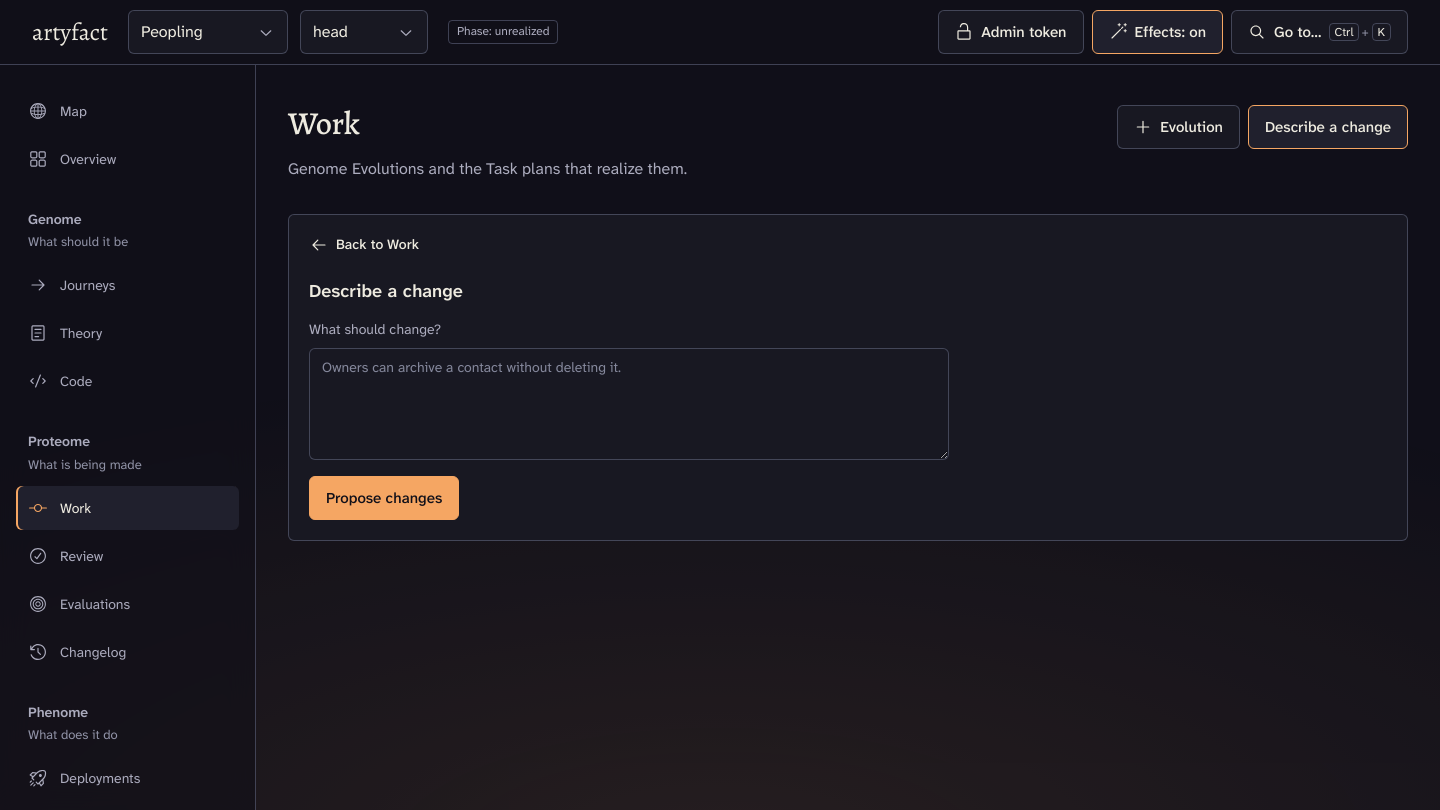
Test: Describe a change › says intents are not available yet on a 501
In the text box labelled "What should change?": (629, 404) [309,348,949,460], type "Birthdays"
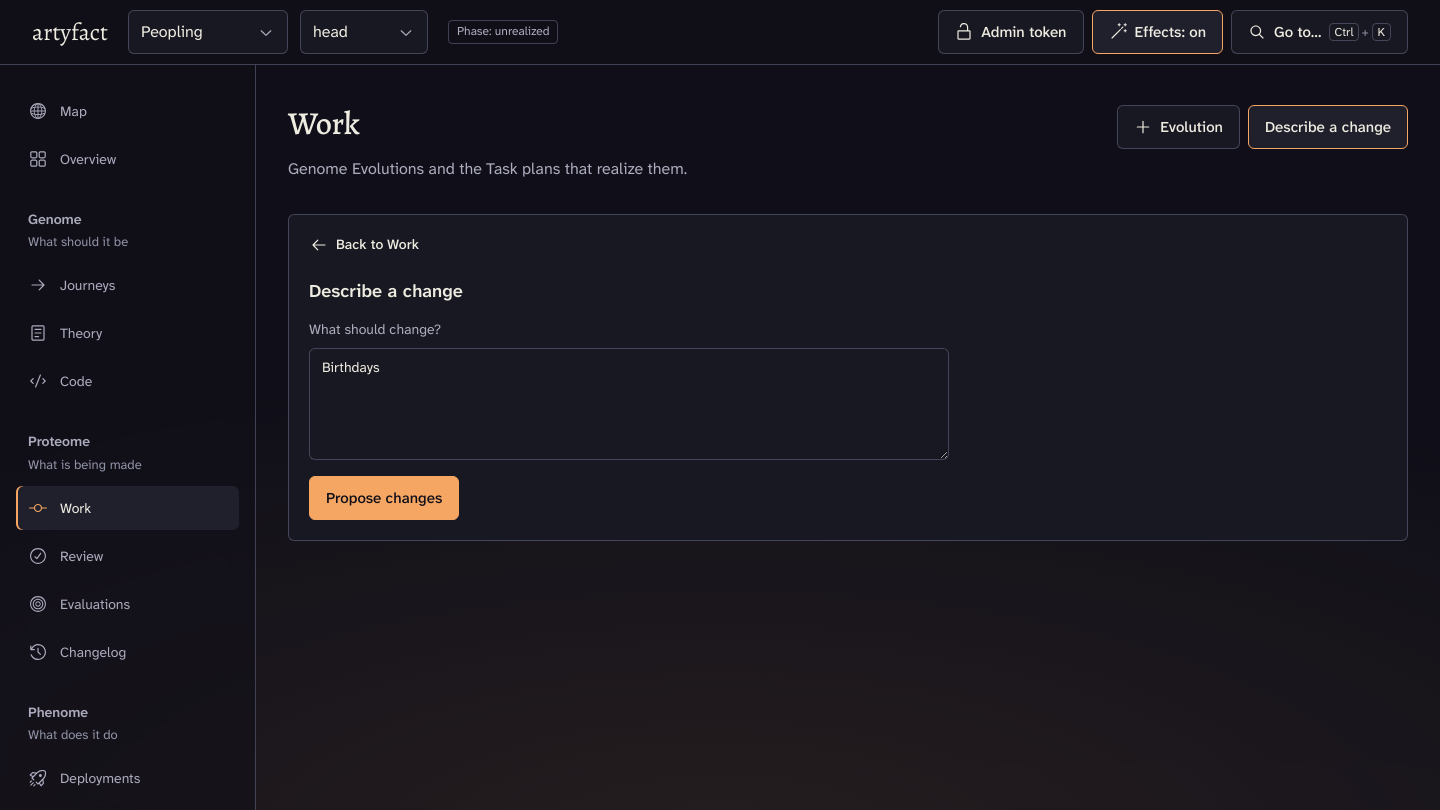
Click the button "Propose changes": (384, 498) [309,476,459,520]
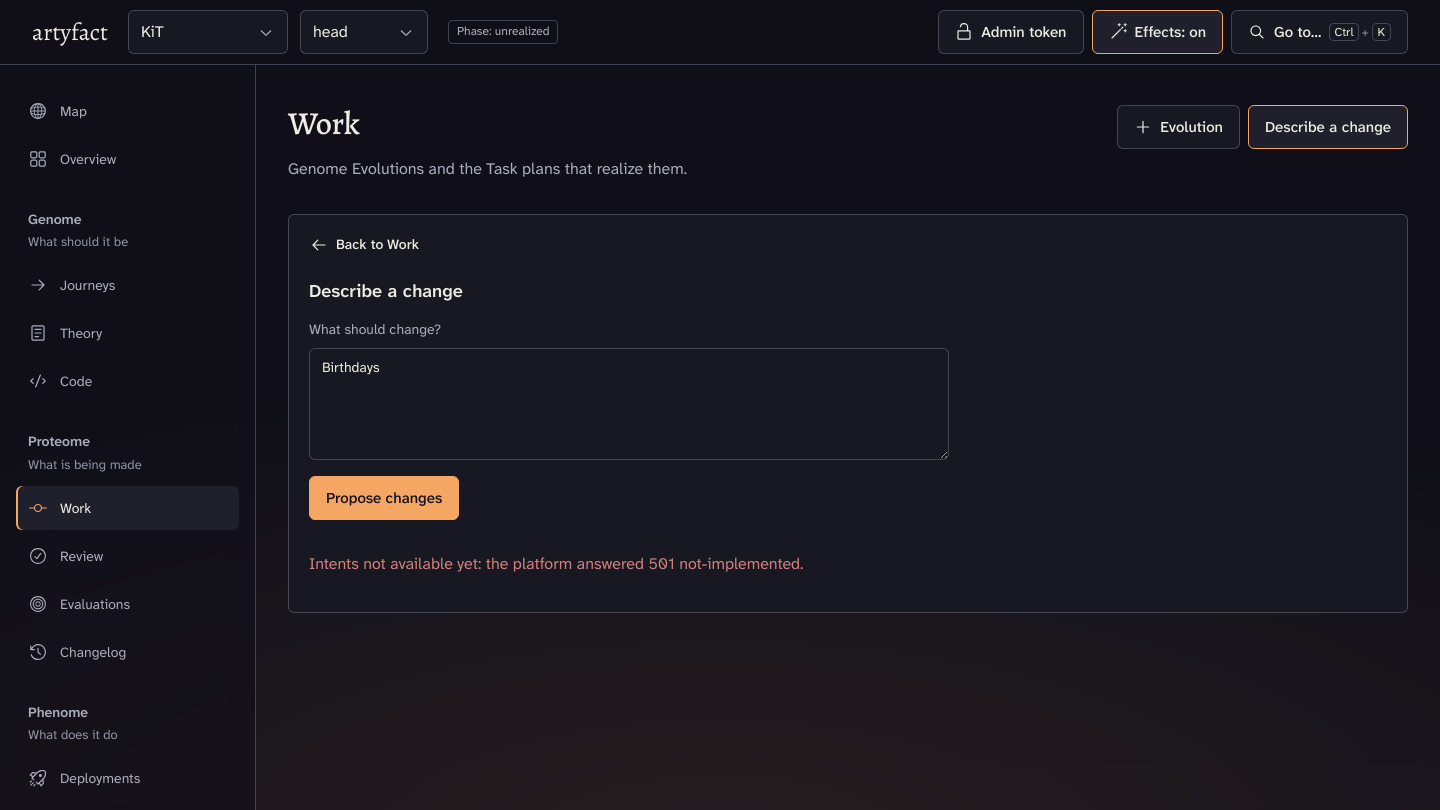
Check: the message shows "Intents not available yet", box [309,553,803,574]
